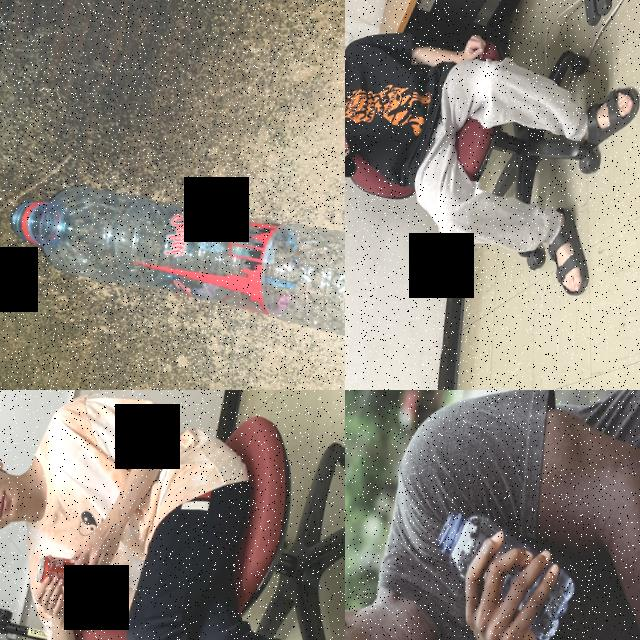bottle: (0, 144, 345, 363), (417, 506, 586, 640)
can: (32, 548, 89, 593), (345, 89, 362, 170)
